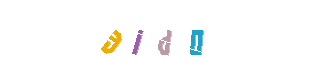0: (156, 0, 236, 80)
3: (72, 0, 152, 80)
D: (120, 0, 200, 80)
L: (114, 0, 194, 80)
